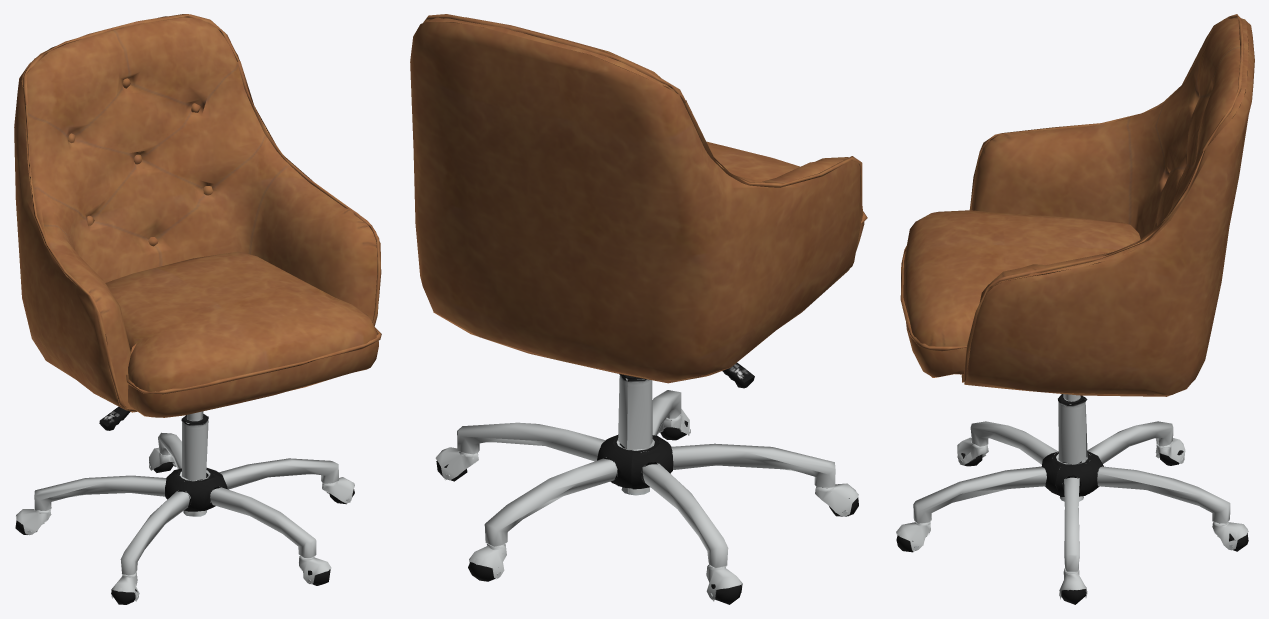
The picture shows the model from 3 angles, left to right: view 1: azimuth 30°, elevation 25°; view 2: azimuth 150°, elevation 25°; view 3: azimuth 270°, elevation 25°; orthographic projection. The views are drawn at different scales.
Visible parts, largest first — view 1: visual_RootNode; view 2: visual_RootNode; view 3: visual_RootNode.
Part boxes in pixels (bbox=[...]): visual_RootNode: bbox=[14, 14, 381, 604]; visual_RootNode: bbox=[410, 14, 867, 604]; visual_RootNode: bbox=[896, 14, 1254, 604].
Size of the model in its own units: 0.6279 by 0.6155 by 0.9108.
Materials: 1 (1 with a texture image).
